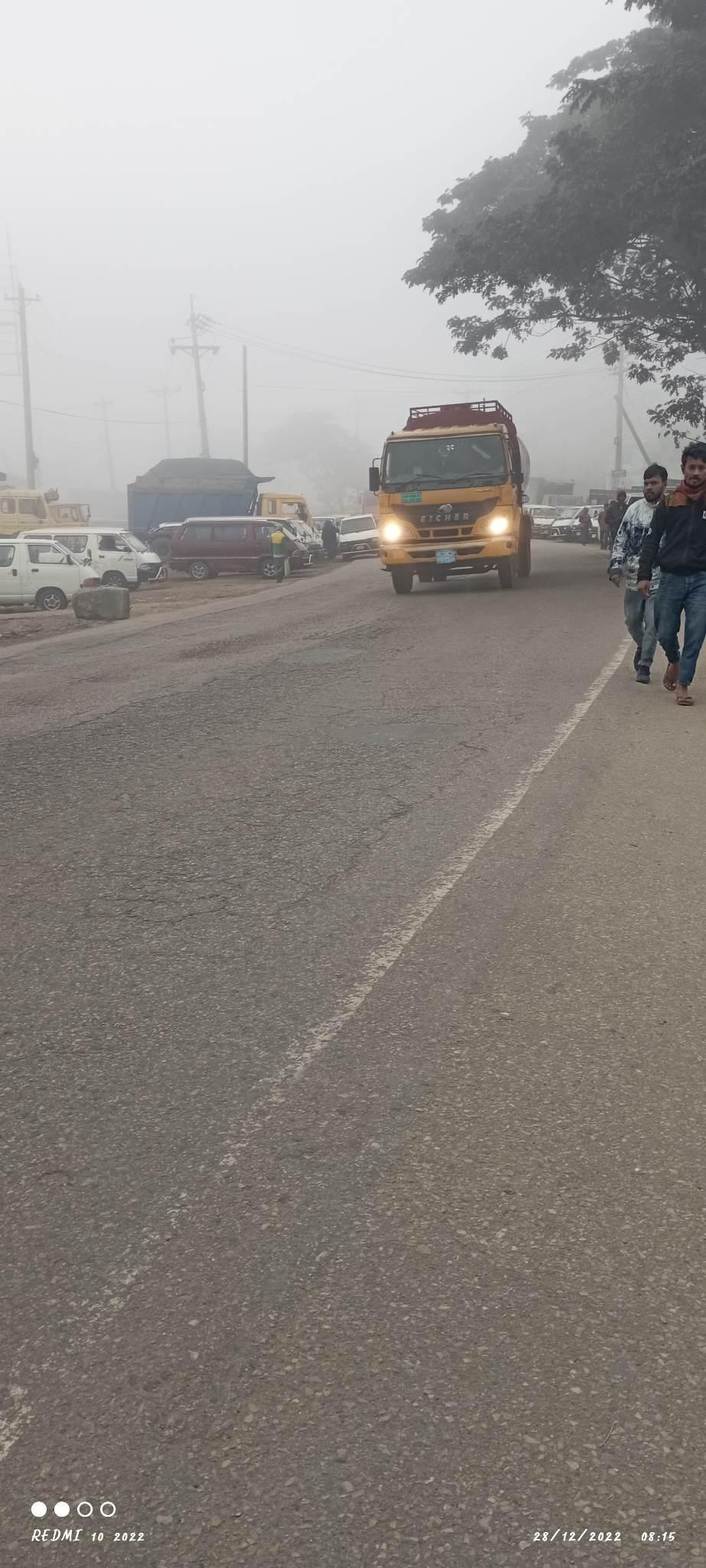Car: (166, 505, 327, 601), (2, 520, 109, 637), (22, 515, 166, 592)
Truck: (363, 381, 555, 603)
